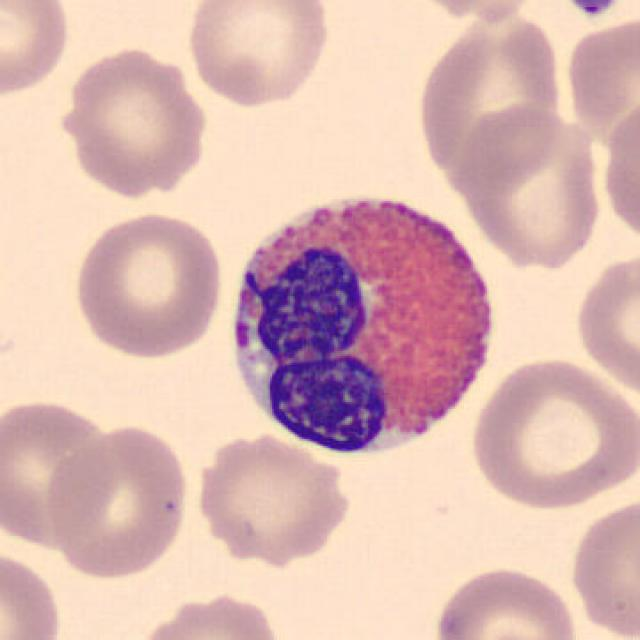Eosinophil: (215, 173, 509, 472)
Platelets: (563, 0, 625, 19)
RBC: (466, 353, 638, 513), (416, 16, 568, 195), (452, 106, 606, 271), (54, 42, 212, 200), (43, 419, 194, 582), (69, 206, 226, 362), (190, 430, 356, 566), (0, 393, 121, 550), (183, 0, 334, 109), (429, 562, 583, 640), (571, 247, 638, 400), (567, 494, 638, 638), (562, 14, 640, 138), (130, 589, 286, 640), (0, 0, 73, 99), (599, 92, 640, 252), (0, 543, 66, 640), (395, 0, 549, 23)
